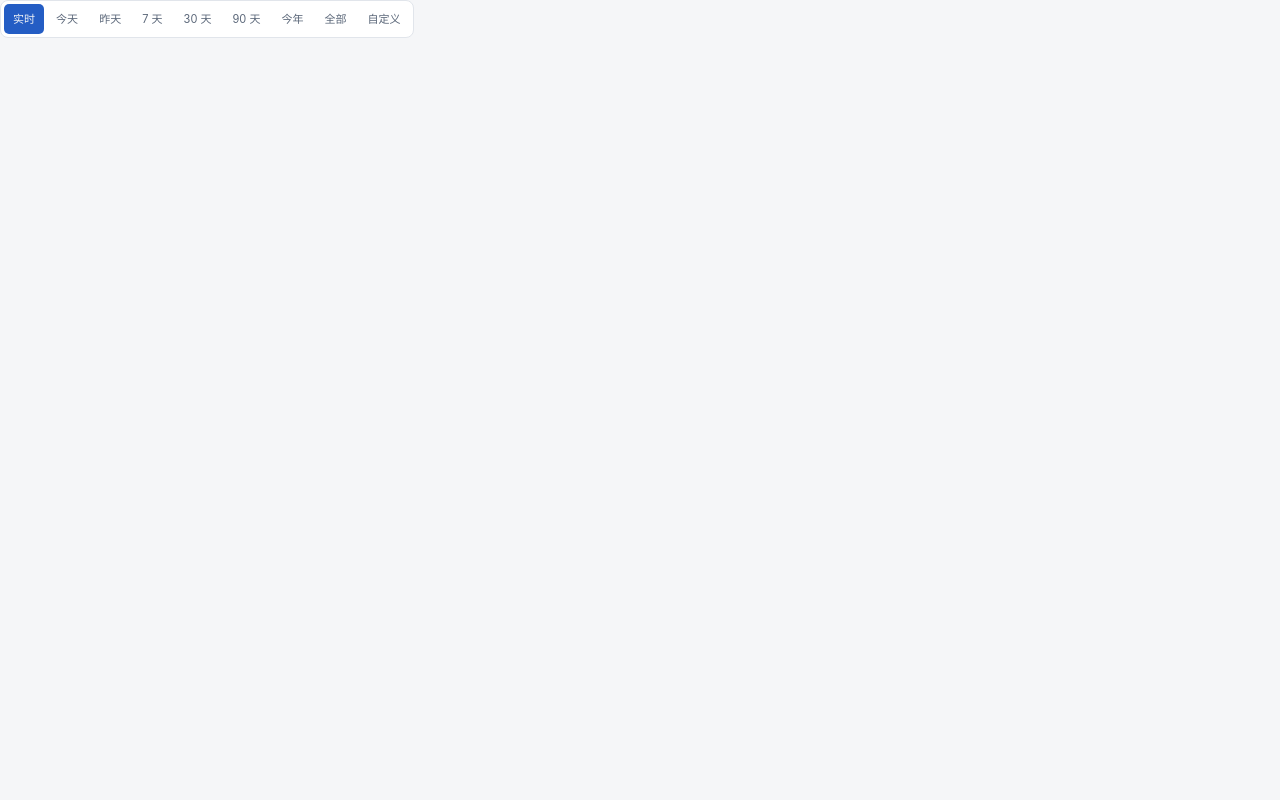
it: RangeSelector › uses the configured-zone current date and disables future dates
Click the button "自定义" at (384, 19), box [359, 4, 410, 34]
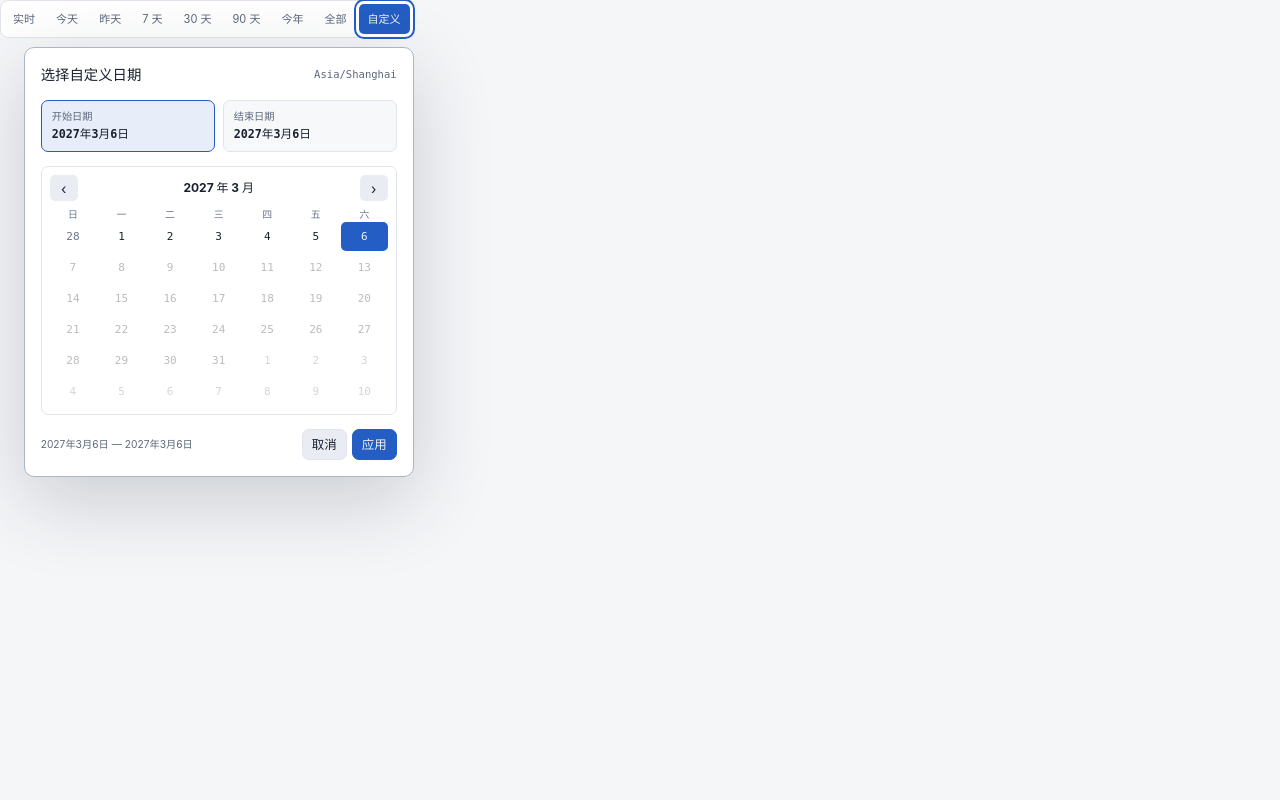
Expected: the button named "2027-03-07" is disabled, [50, 253, 96, 282]
Expected: the button with aria-label "开始日期 2027-03-06" is shown, [41, 100, 215, 152]
Expected: the button with aria-label "结束日期 2027-03-06" is shown, [223, 100, 397, 152]
